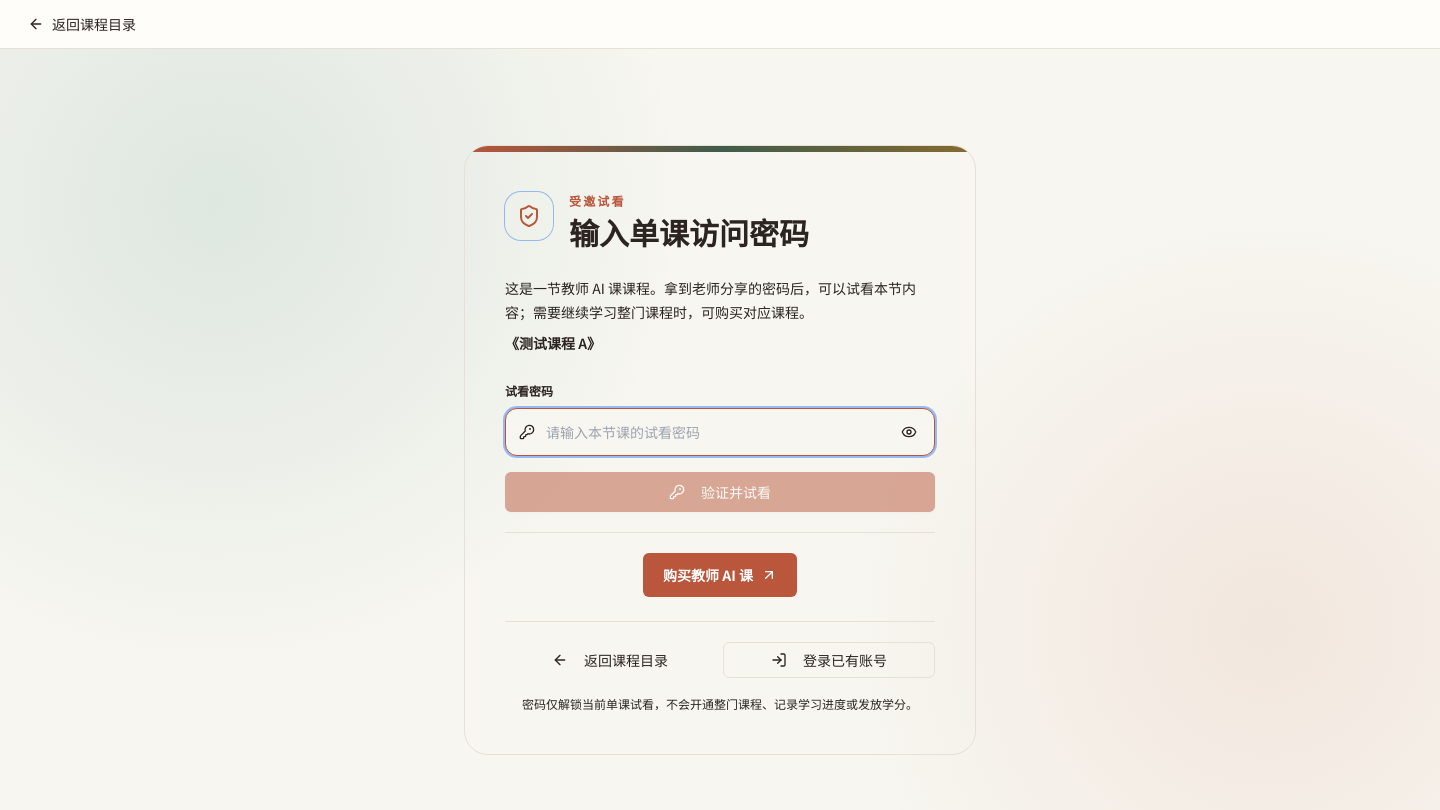
Test: CourseDetailPage — 单课密码试看 › 密码尝试过多时显示服务端返回的等待时间
Step 1. Type "wrong-password" into the password field labelled "试看密码" → (720, 432), box [505,408,935,456]
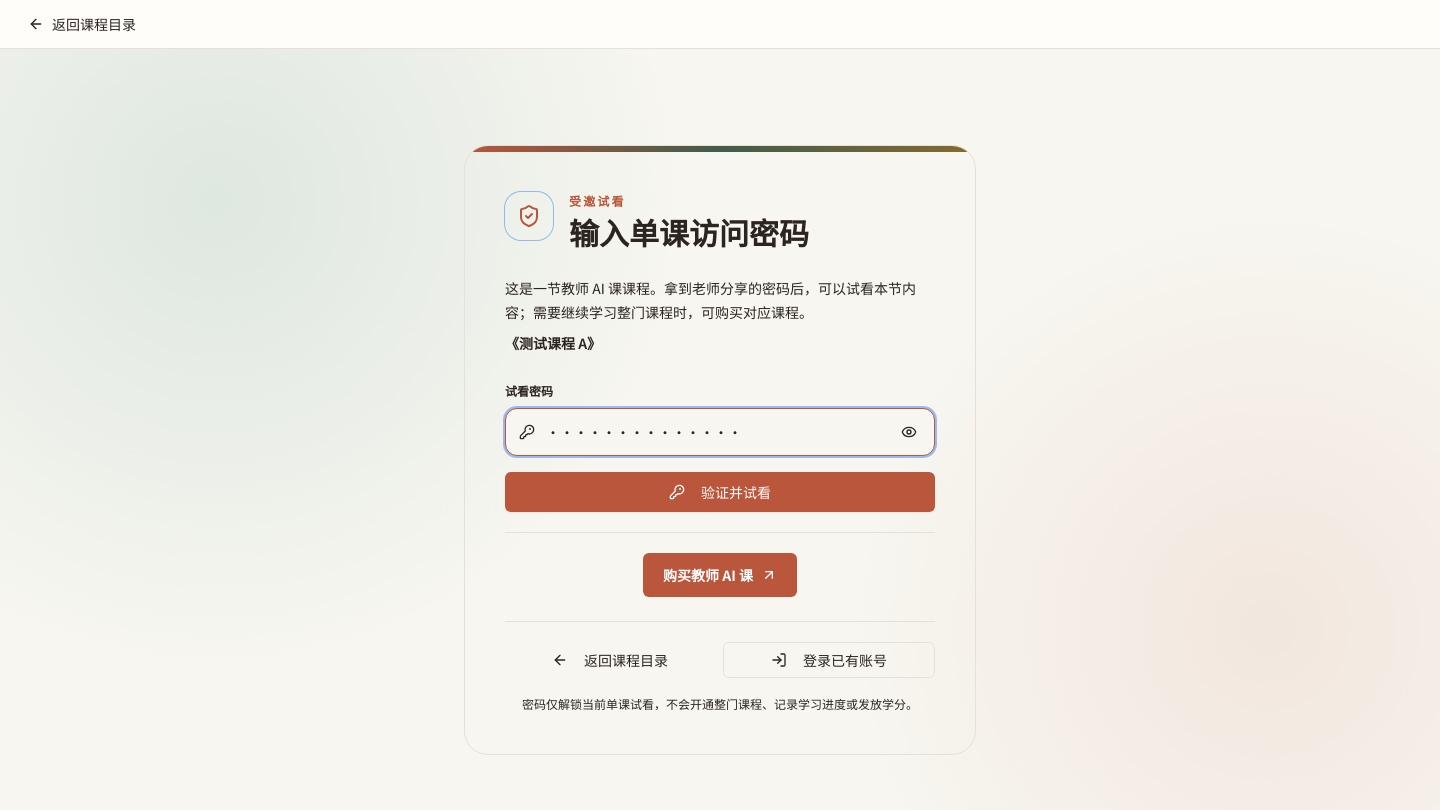
Step 2. Click the button "验证并试看" → (720, 492), box [505,472,935,512]
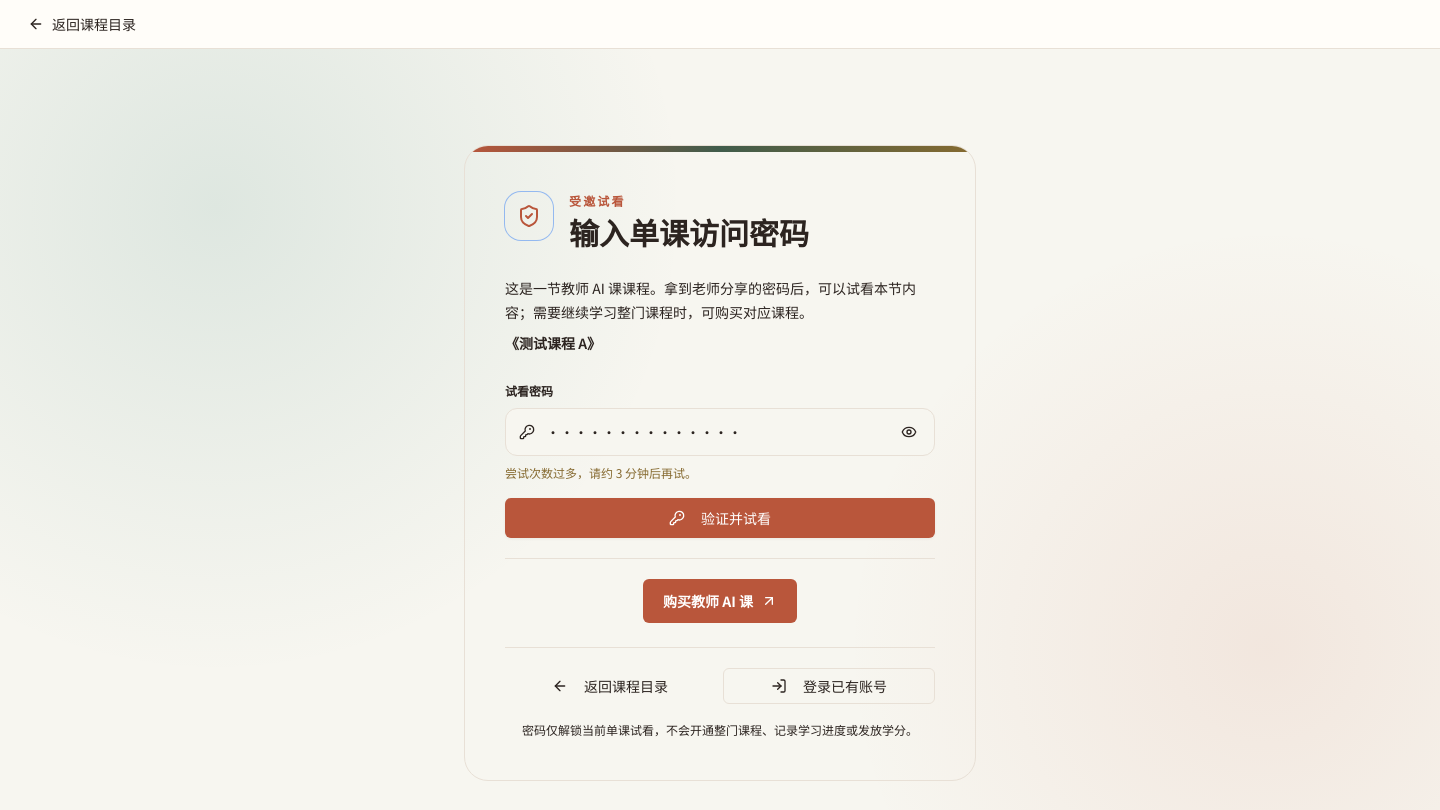
Expected: the message shows "约 3 分钟后再试", [505,464,697,481]
